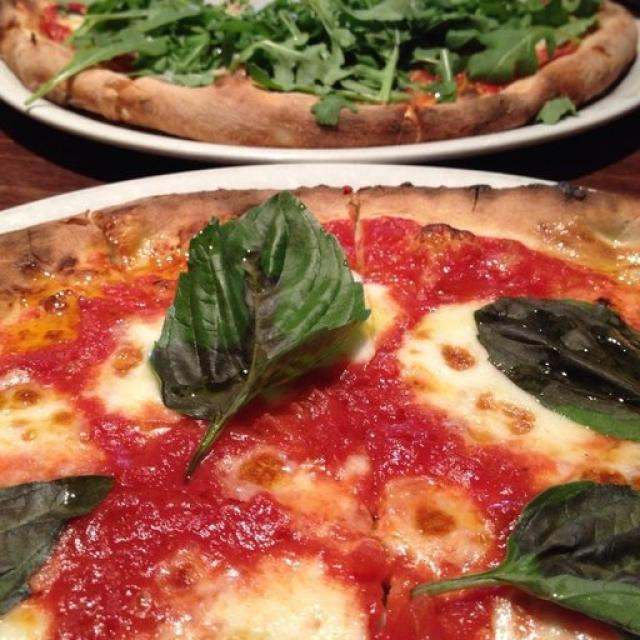Basil: (140, 188, 372, 478), (414, 457, 640, 640), (473, 284, 640, 436), (0, 472, 106, 626)
Cheese: (100, 272, 393, 419), (417, 303, 640, 481), (134, 510, 400, 640), (0, 367, 83, 640), (381, 467, 495, 584), (238, 444, 347, 544), (489, 588, 640, 640)
Pizza: (1, 184, 640, 640)
Rucola: (88, 0, 192, 69), (424, 0, 596, 38), (344, 23, 416, 106), (472, 21, 564, 77), (404, 37, 461, 101), (259, 44, 343, 84), (258, 0, 314, 45), (168, 28, 212, 78), (367, 0, 446, 27), (208, 8, 256, 52), (316, 0, 365, 43), (90, 1, 146, 25)
